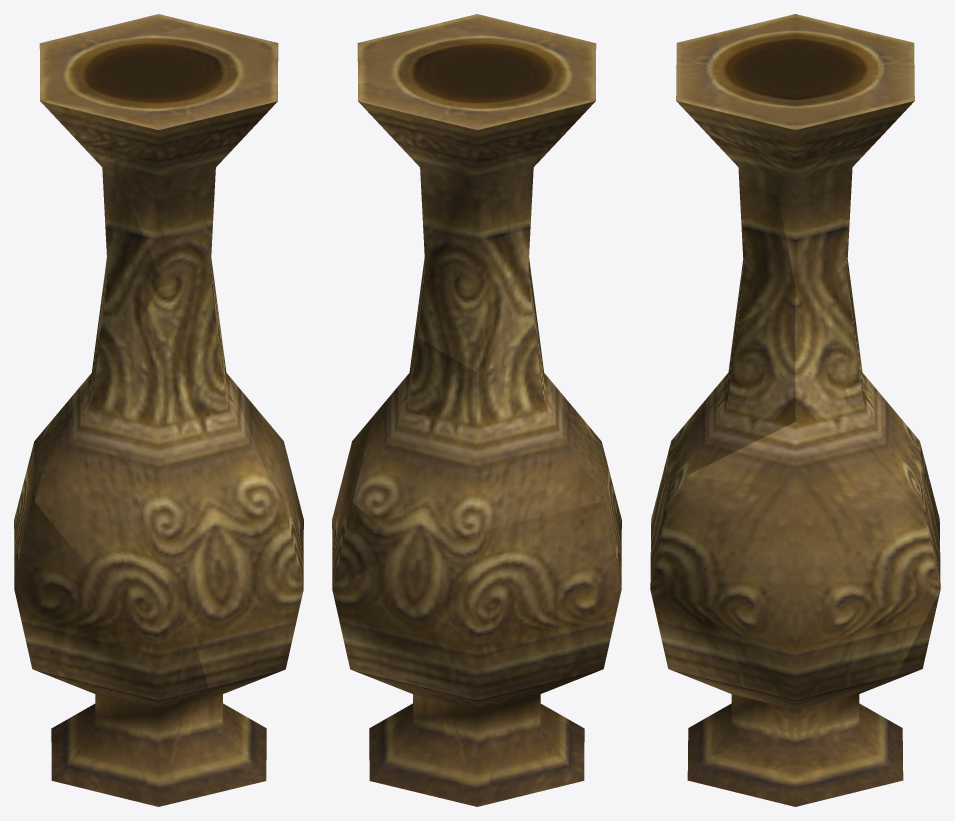
Rendered from Pot01_Parts_Broken_LostTemple_001.FBX.
3 renders of one model, left to right at view 1: azimuth 30°, elevation 25°; view 2: azimuth 150°, elevation 25°; view 3: azimuth 270°, elevation 25°, orthographic.
Parts seen in each view (by area): view 1: Pot01_Parts_Broken_LostTemple_003, Pot01_Parts_Broken_LostTemple_001, Pot01_Parts_Broken_LostTemple_005, Pot01_Parts_Broken_LostTemple_006, Pot01_Parts_Broken_LostTemple_002, Pot01_Parts_Broken_LostTemple_004; view 2: Pot01_Parts_Broken_LostTemple_001, Pot01_Parts_Broken_LostTemple_005, Pot01_Parts_Broken_LostTemple_004, Pot01_Parts_Broken_LostTemple_003, Pot01_Parts_Broken_LostTemple_002, Pot01_Parts_Broken_LostTemple_006; view 3: Pot01_Parts_Broken_LostTemple_002, Pot01_Parts_Broken_LostTemple_005, Pot01_Parts_Broken_LostTemple_004, Pot01_Parts_Broken_LostTemple_001, Pot01_Parts_Broken_LostTemple_006, Pot01_Parts_Broken_LostTemple_003.
Part boxes in pixels (x1=…): Pot01_Parts_Broken_LostTemple_003: x1=34, y1=258, x2=267, y2=585; Pot01_Parts_Broken_LostTemple_001: x1=14, y1=442, x2=266, y2=806; Pot01_Parts_Broken_LostTemple_005: x1=39, y1=14, x2=278, y2=344; Pot01_Parts_Broken_LostTemple_006: x1=106, y1=74, x2=277, y2=322; Pot01_Parts_Broken_LostTemple_002: x1=158, y1=415, x2=303, y2=694; Pot01_Parts_Broken_LostTemple_004: x1=34, y1=373, x2=267, y2=500; Pot01_Parts_Broken_LostTemple_001: x1=332, y1=475, x2=621, y2=806; Pot01_Parts_Broken_LostTemple_005: x1=357, y1=27, x2=595, y2=372; Pot01_Parts_Broken_LostTemple_004: x1=352, y1=258, x2=600, y2=546; Pot01_Parts_Broken_LostTemple_003: x1=477, y1=258, x2=615, y2=523; Pot01_Parts_Broken_LostTemple_002: x1=332, y1=415, x2=404, y2=590; Pot01_Parts_Broken_LostTemple_006: x1=421, y1=14, x2=596, y2=68; Pot01_Parts_Broken_LostTemple_002: x1=650, y1=474, x2=940, y2=709; Pot01_Parts_Broken_LostTemple_005: x1=729, y1=14, x2=914, y2=336; Pot01_Parts_Broken_LostTemple_004: x1=686, y1=288, x2=926, y2=502; Pot01_Parts_Broken_LostTemple_001: x1=651, y1=442, x2=940, y2=806; Pot01_Parts_Broken_LostTemple_006: x1=676, y1=30, x2=795, y2=324; Pot01_Parts_Broken_LostTemple_003: x1=663, y1=259, x2=795, y2=490.
Bounding box in the file's own units: 65.78 × 148 × 57.11.
